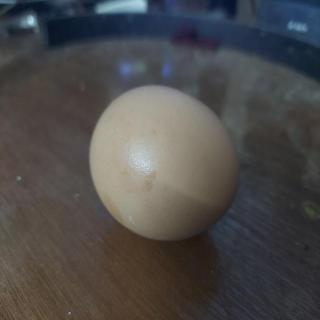Telur: (84, 82, 246, 244)
